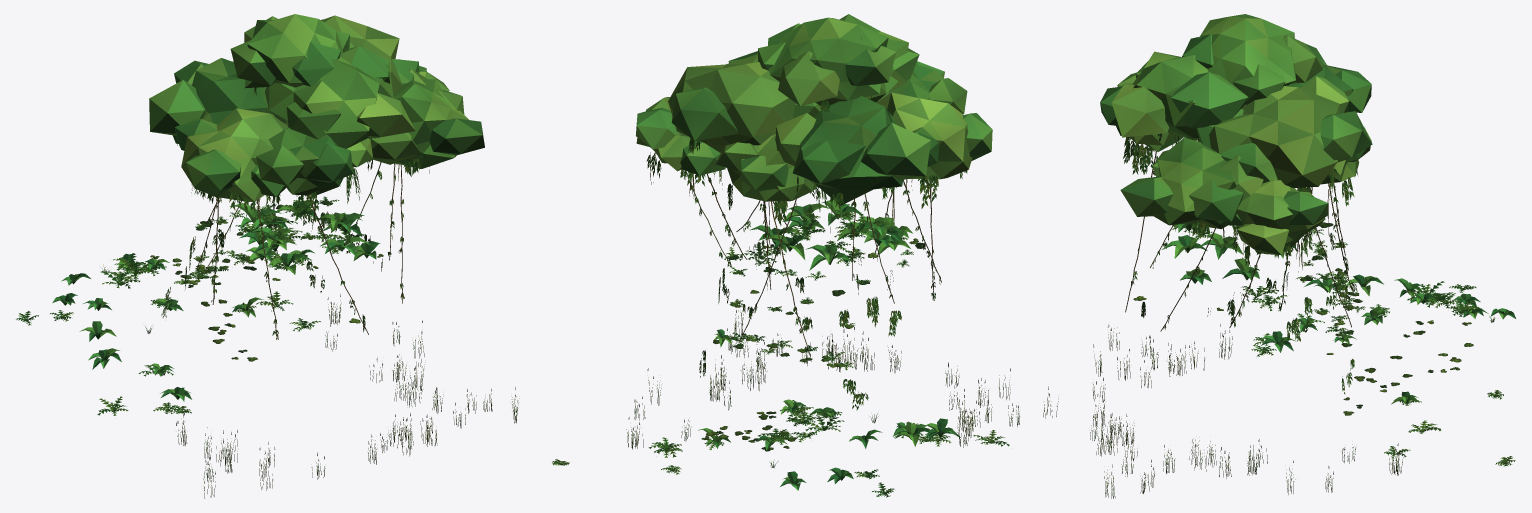
The model's file is wildheart_basin_entrance_growth.glb.
3 renders of one model, left to right at view 1: azimuth 30°, elevation 25°; view 2: azimuth 150°, elevation 25°; view 3: azimuth 270°, elevation 25°, orthographic. The views are drawn at different scales.
Visible parts, largest first — view 1: Entrance_Growth; view 2: Entrance_Growth; view 3: Entrance_Growth.
Part boxes in pixels (box(x1,y1,x2,y2)): Entrance_Growth: box(16, 14, 519, 498); Entrance_Growth: box(552, 14, 1058, 497); Entrance_Growth: box(1090, 14, 1515, 498).
Bounding box in the file's own units: 32.14 × 33.72 × 32.4.
